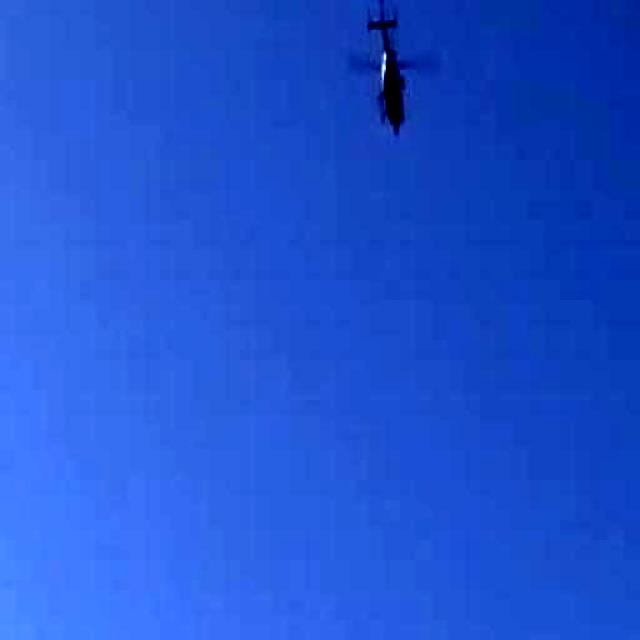drone: (336, 0, 448, 150)
